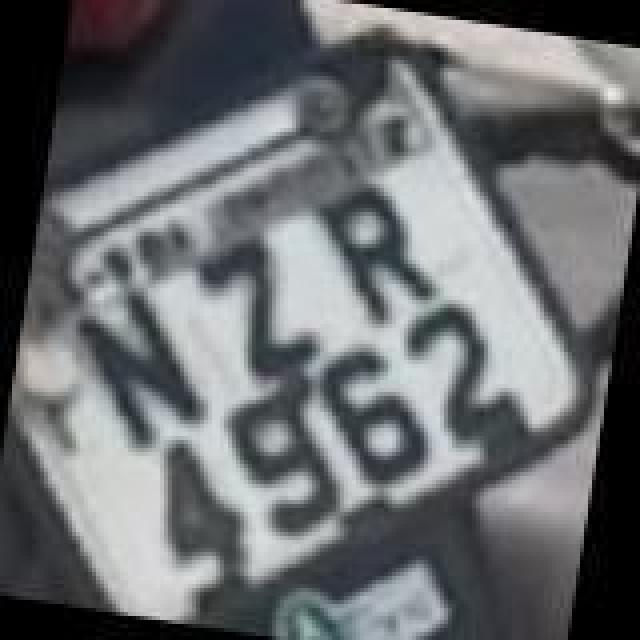2: (384, 294, 536, 458)
4: (146, 432, 270, 584)
6: (300, 334, 444, 490)
9: (206, 374, 362, 546)
N: (58, 278, 222, 458)
R: (296, 168, 456, 328)
Z: (174, 224, 338, 392)
